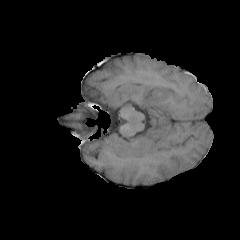glioma: (140, 81, 175, 109)
